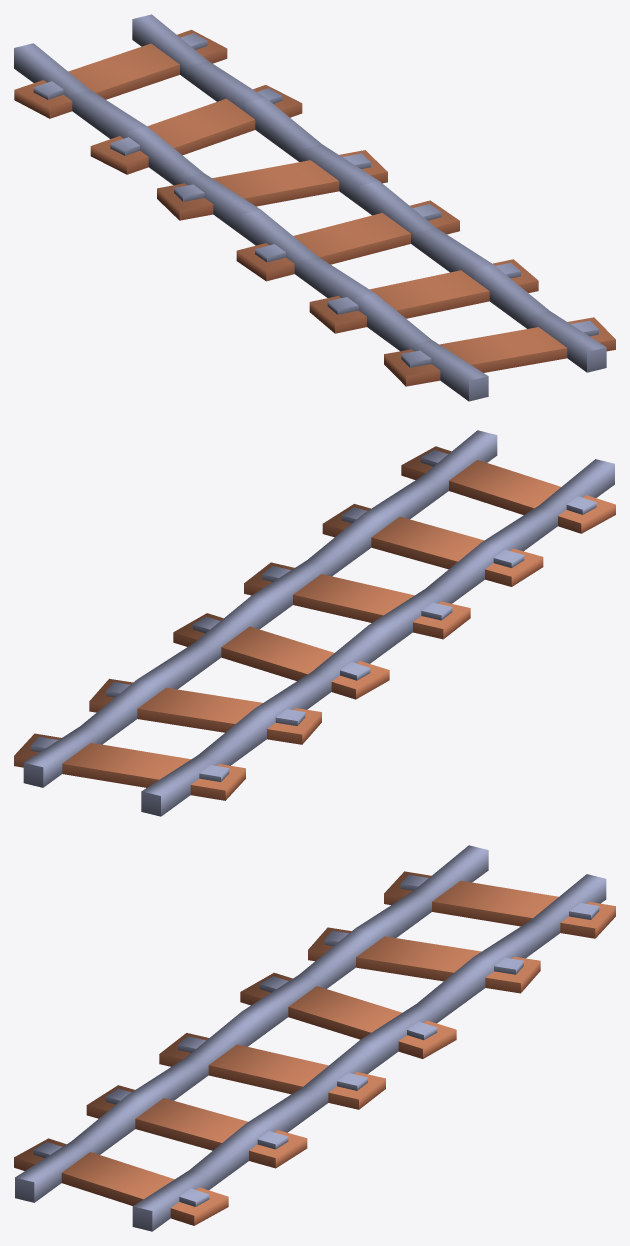
File: railroad-damaged-straight.glb
The picture shows the model from 3 angles, top to bottom: view 1: azimuth 30°, elevation 25°; view 2: azimuth 150°, elevation 25°; view 3: azimuth 330°, elevation 25°; orthographic projection.
Visible parts, largest first — view 1: railroad-damaged-straight; view 2: railroad-damaged-straight; view 3: railroad-damaged-straight.
Part boxes in pixels (x1,y1,x2,y2): railroad-damaged-straight: (14, 14, 615, 401); railroad-damaged-straight: (14, 430, 615, 816); railroad-damaged-straight: (14, 845, 615, 1231).
Size of the model in its own units: 1.03 by 0.1 by 4.
